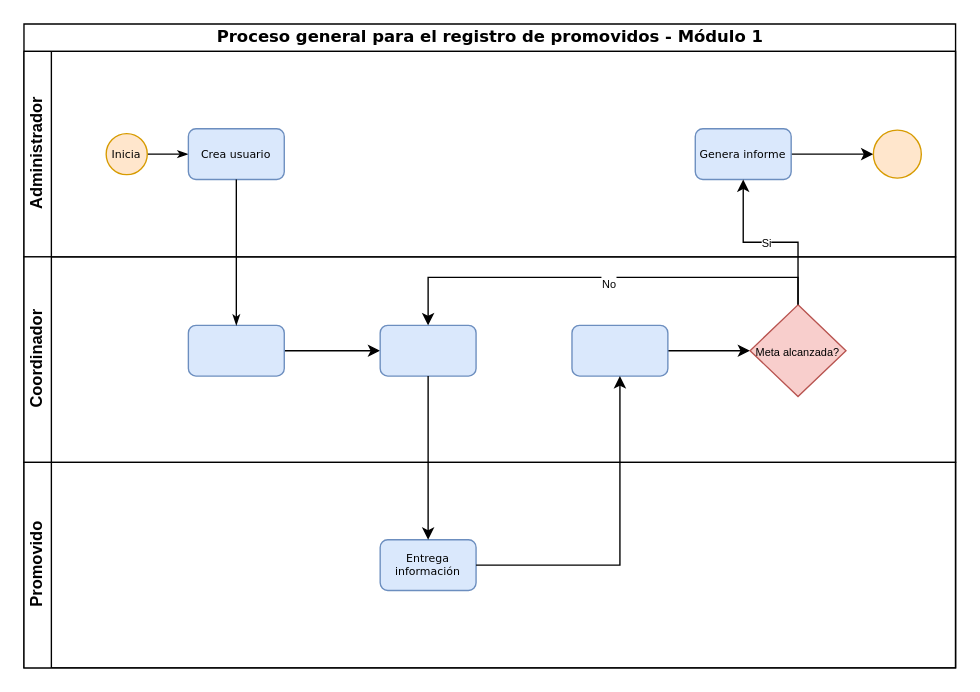
The diagram is 980 pixels wide and 692 high, and some of its shapes have lost their labels. Here are the shapes that lost their labels. From the top down, the centre of each, then its label:
point (896, 153): Termina
point (235, 350): Inicia sesión y crea comités
point (427, 350): Solicita información al promovido
point (619, 350): Realiza el registro
